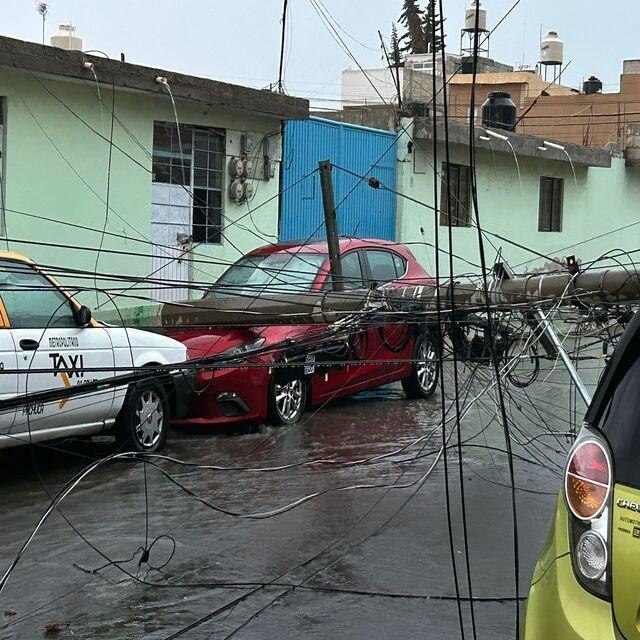Inclined Pole: (89, 260, 640, 388)
